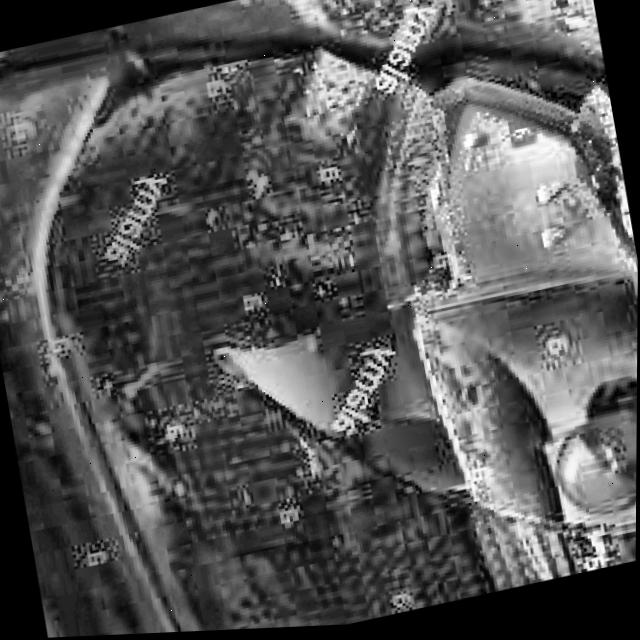tail_lamp: (391, 88, 639, 568), (205, 288, 437, 485)
